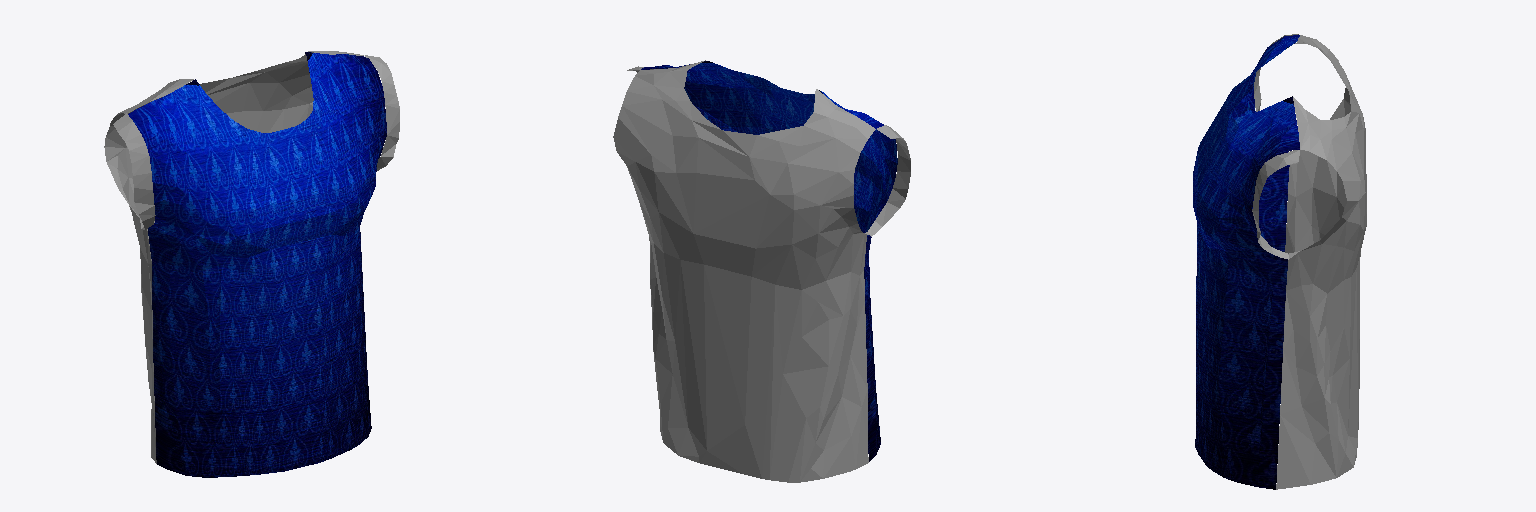
3 renders of one model, left to right at view 1: azimuth 30°, elevation 25°; view 2: azimuth 150°, elevation 25°; view 3: azimuth 270°, elevation 25°, orthographic.
Visible parts, largest first — view 1: T_shirt; view 2: T_shirt; view 3: T_shirt.
Boxes of the visible parts, x1,y1,x2,y2 form: T_shirt: [104, 51, 399, 477]; T_shirt: [613, 60, 910, 482]; T_shirt: [1193, 34, 1366, 489].
Size of the model in its own units: 0.2935 by 0.3892 by 0.1639.
Materials: 2 (1 with a texture image).